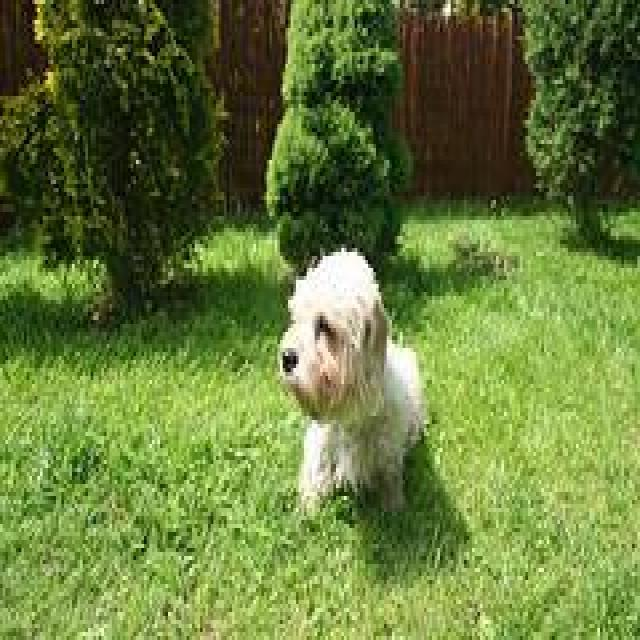dandie_dinmont: (272, 244, 432, 524)
